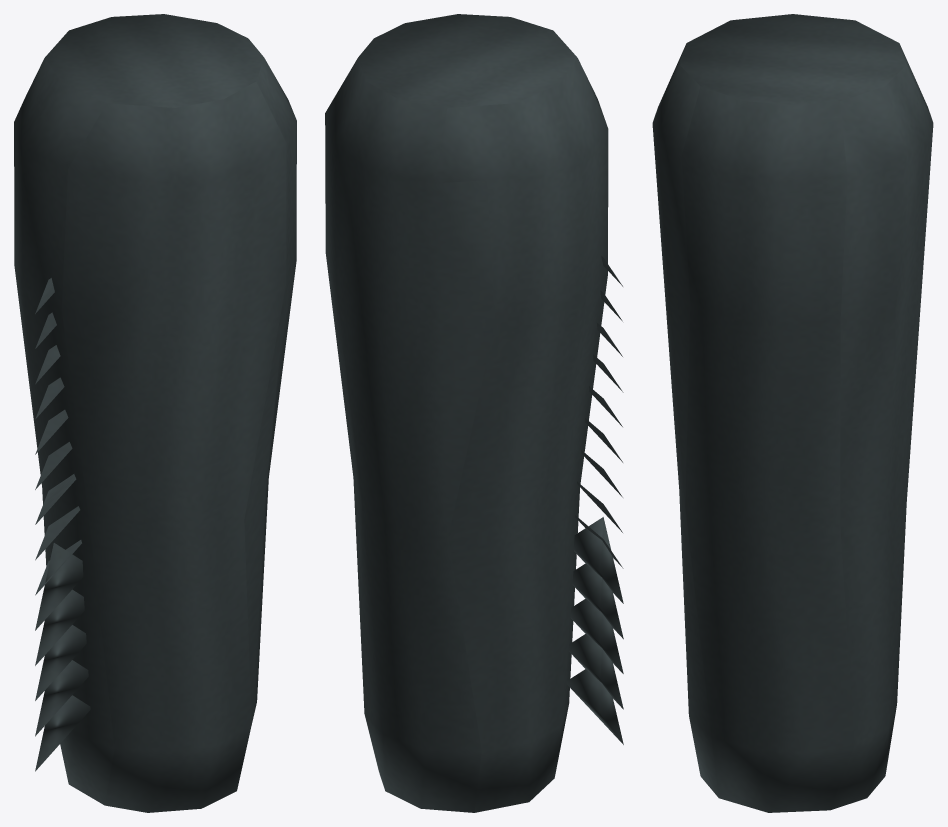
File: upper_arm_r_lod1.glb
The picture shows the model from 3 angles, left to right: view 1: azimuth 30°, elevation 25°; view 2: azimuth 150°, elevation 25°; view 3: azimuth 270°, elevation 25°; orthographic projection.
Parts seen in each view (by area): view 1: dormin_upper_arm_r_LOD1; view 2: dormin_upper_arm_r_LOD1; view 3: dormin_upper_arm_r_LOD1.
Boxes of the visible parts, x1,y1,x2,y2 form: dormin_upper_arm_r_LOD1: [14, 14, 296, 812]; dormin_upper_arm_r_LOD1: [325, 14, 623, 812]; dormin_upper_arm_r_LOD1: [652, 14, 933, 812].
Bounding box in the file's own units: 1.64 × 4.26 × 1.51.
1 material, 1 textured.
